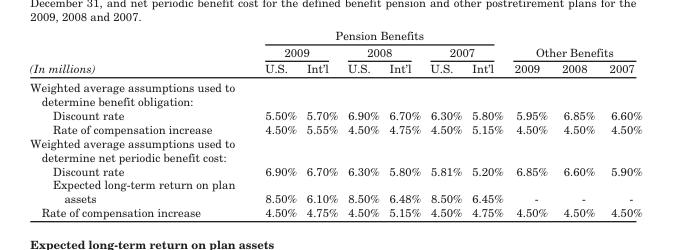table: (29, 28, 641, 218)
table column: (29, 28, 249, 218), (249, 28, 300, 218), (554, 28, 601, 218), (508, 28, 554, 218), (300, 28, 342, 218), (424, 28, 466, 218), (466, 28, 508, 218), (342, 28, 383, 218), (383, 28, 424, 218), (601, 28, 641, 218)
table column header: (29, 28, 641, 77)
table projected row header: (29, 77, 641, 107), (29, 135, 641, 163)
table row: (29, 77, 641, 107), (29, 135, 641, 163), (29, 177, 641, 205), (29, 59, 641, 77), (29, 43, 641, 59), (29, 28, 641, 43), (29, 107, 641, 121), (29, 121, 641, 135), (29, 163, 641, 177), (29, 205, 641, 218)
table spanning cell: (29, 28, 249, 77), (508, 28, 641, 59), (249, 28, 508, 43), (249, 43, 342, 59), (424, 43, 508, 59), (342, 43, 424, 59)
